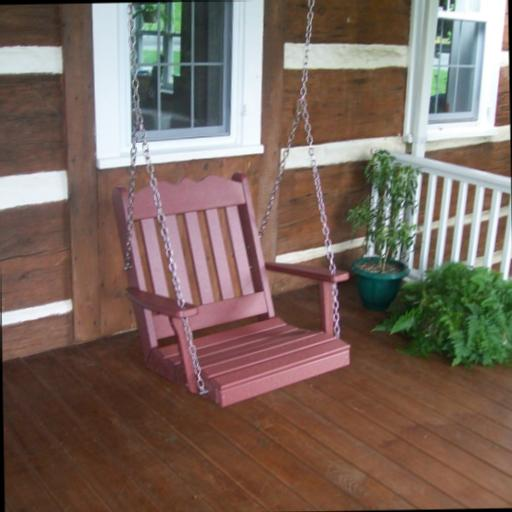chair: (110, 170, 352, 409)
wall: (0, 0, 512, 362)
